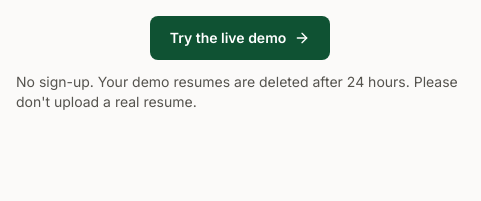
Test: StartDemoButton › shows the server's words when the start is refused
What coordinates should you click on to do the following:
click the button "Try the live demo"
I would click on:
 (240, 38)
Its box is [150,16,330,60].
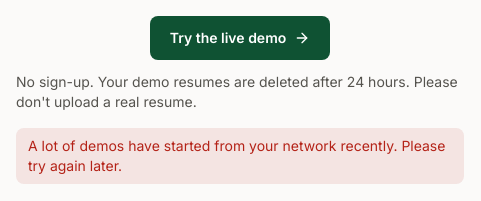
Result: the message reads "A lot of demos have started from your network recently. Please try again later." at [28,137,445,174]
